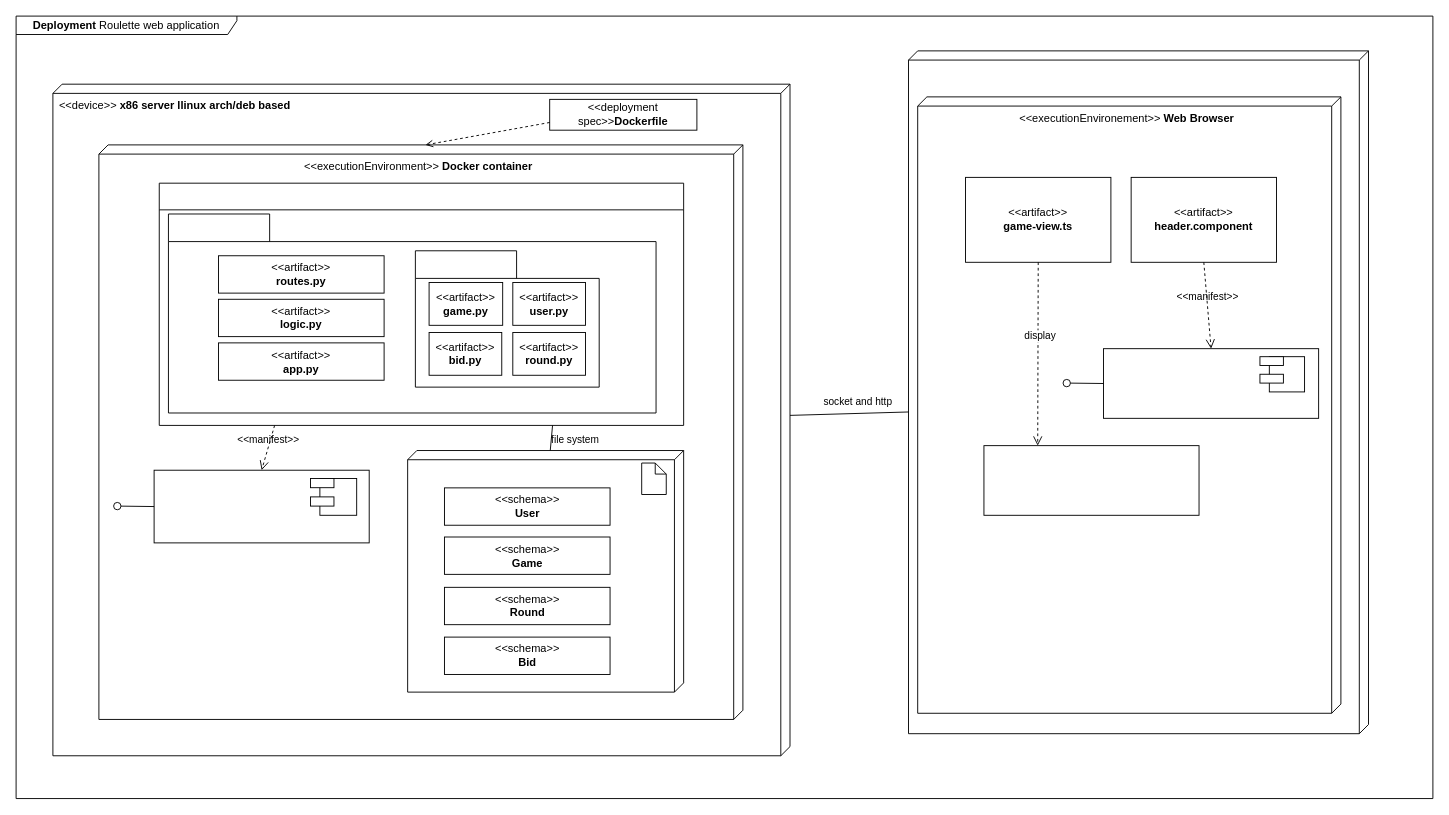
Some shapes in this 1449 by 815 pixel diagram are drawn without their labels. The shapes that lost their labels are listed below. From the top down, each one's box as (x1, y1, x2, y2) in pixels, then its label:
(168, 213, 656, 413): << folder >> src
(158, 182, 684, 425): << artifact >>roulette back-end
(414, 250, 599, 387): << folder >> model
(908, 50, 1368, 734): <<device>> client machine
(1103, 348, 1319, 418): <<component>> Identification
(983, 445, 1199, 515): <<service>> Game Service
(153, 469, 369, 543): <<component>> RouletteEngine
(407, 450, 684, 692): <<database>> roulette.db
